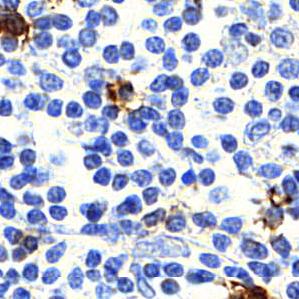Lymphocyte: (7, 8, 31, 37)
